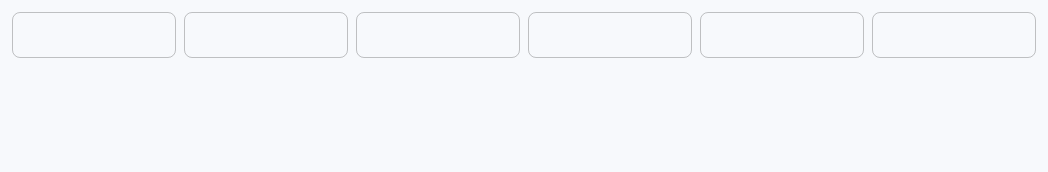
Test: OtpInput › fills all inputs from a six-digit paste and removes symbols
The image size is (1048, 172).
Step 1. Click the field named "OTP digit 1 of 6" → coordinates (94, 35), box [12,12,176,58]
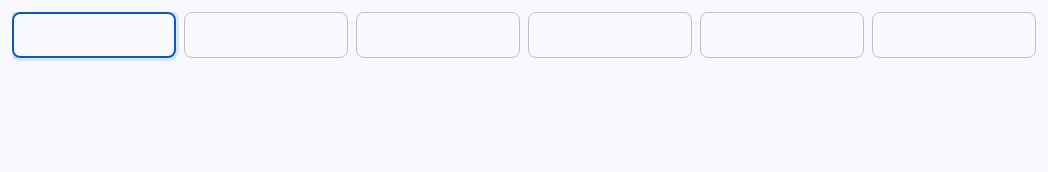
Step 2. Type keys "12-34 56abc"
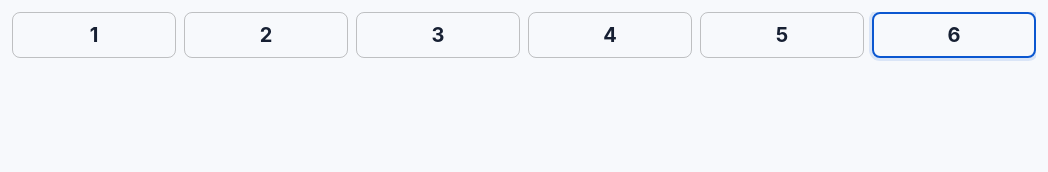
Check: the field named "OTP digit 1 of 6" holds "1", box [12,12,176,58]
Check: the field named "OTP digit 2 of 6" holds "2", box [184,12,348,58]
Check: the field named "OTP digit 3 of 6" holds "3", box [356,12,520,58]
